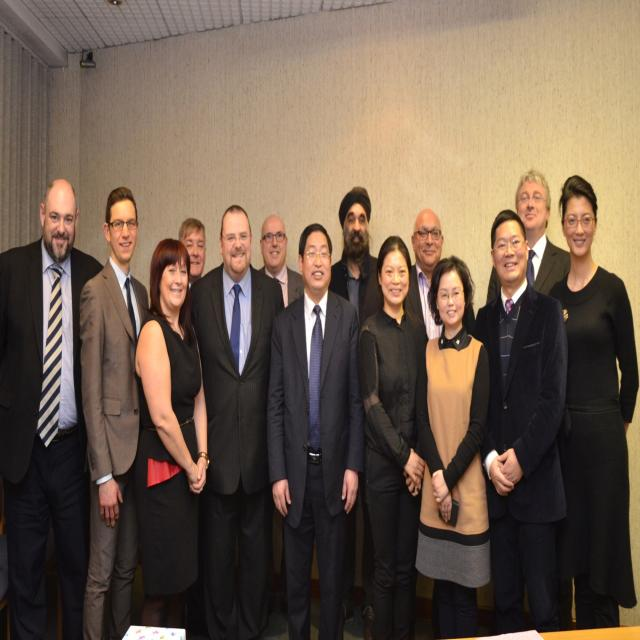body: (0, 177, 105, 640), (541, 172, 640, 639), (262, 220, 370, 640), (189, 202, 286, 640), (475, 209, 569, 633), (77, 183, 156, 640), (353, 230, 433, 640), (411, 252, 494, 640), (133, 236, 210, 632), (328, 185, 386, 637), (484, 166, 571, 305), (400, 207, 476, 342), (258, 214, 304, 309), (178, 216, 207, 289)
